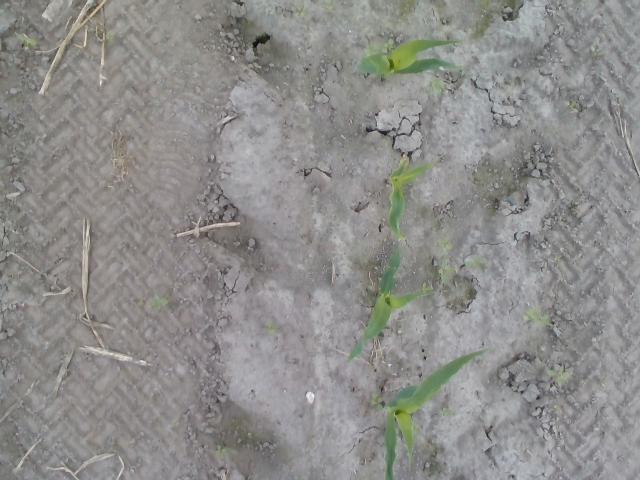Maize: (383, 347, 489, 480), (346, 250, 436, 363), (358, 38, 458, 80), (386, 159, 436, 237)
Weeds: (437, 240, 452, 284), (542, 366, 572, 384), (522, 308, 550, 326), (425, 76, 445, 97), (468, 255, 489, 274), (150, 294, 167, 312), (562, 98, 579, 112), (265, 318, 277, 334), (371, 393, 384, 407), (215, 443, 225, 456), (421, 282, 431, 292), (295, 5, 304, 16), (440, 408, 450, 417)
